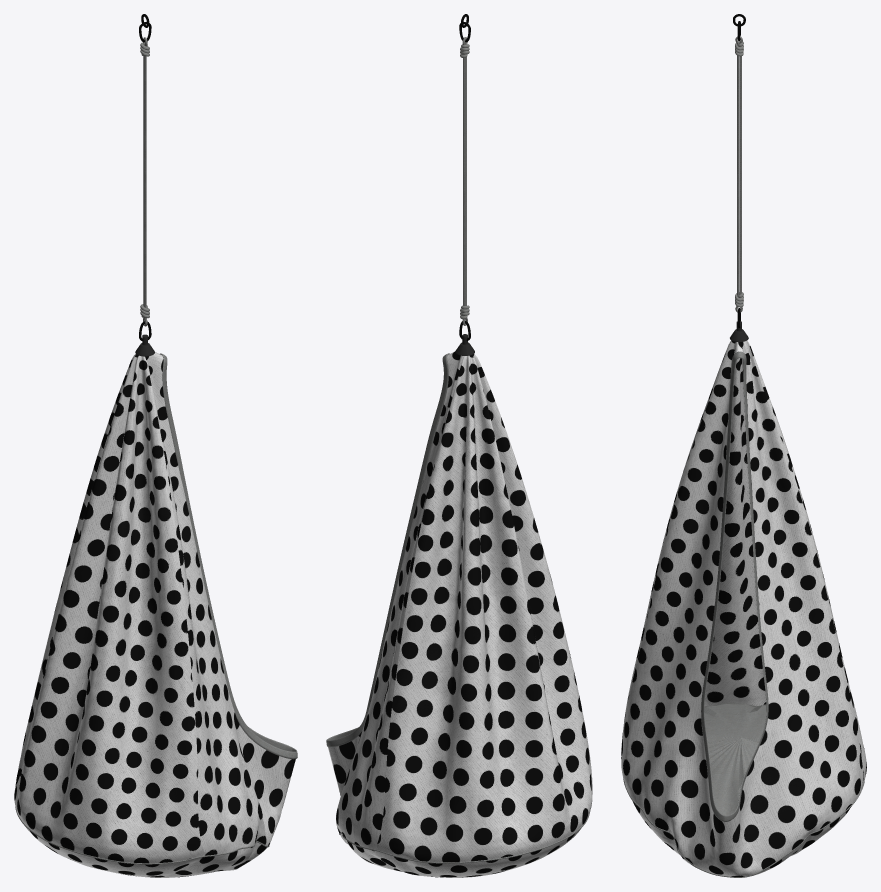
3 renders of one model, left to right at view 1: azimuth 30°, elevation 25°; view 2: azimuth 150°, elevation 25°; view 3: azimuth 270°, elevation 25°, orthographic. The views are drawn at different scales.
Parts seen in each view (by area): view 1: 3DSMeshMatrix (×3); view 2: 3DSMeshMatrix (×3); view 3: 3DSMeshMatrix (×5).
Boxes of the visible parts, x1,y1,x2,y2 form: 3DSMeshMatrix (×3): (14,37,297,877); 3DSMeshMatrix (×3): (326,37,592,877); 3DSMeshMatrix (×5): (621,36,866,877).
Size of the model in its own units: 77.86 by 247 by 67.14.
Materials: 4 (2 with a texture image).
